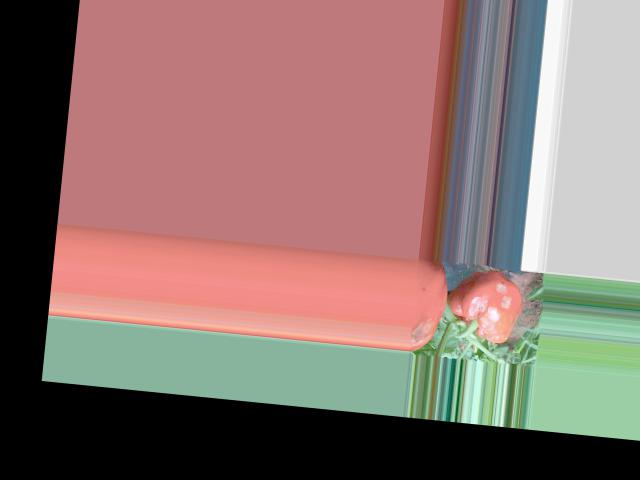bell_pepper: (445, 262, 522, 351)
